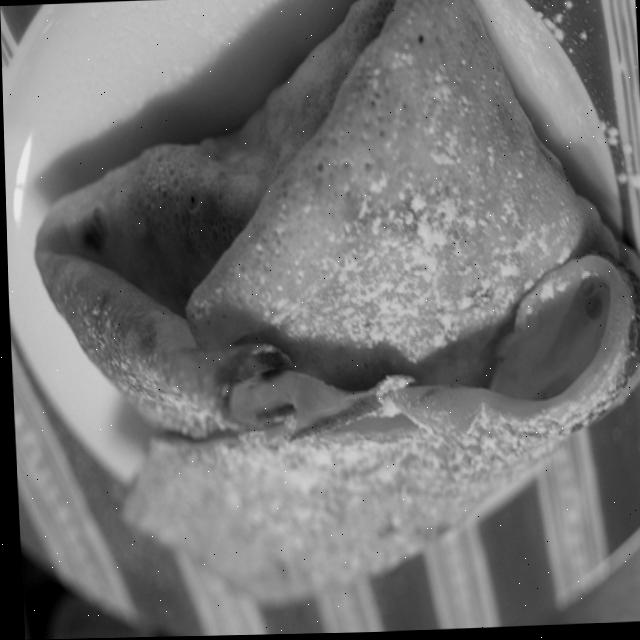蛋糕甜品: (31, 0, 640, 628)
